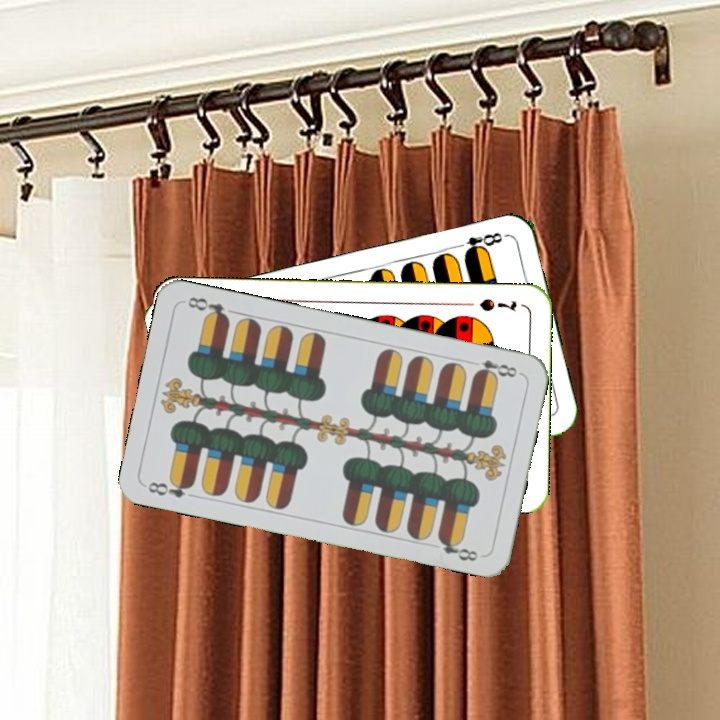E8: (451, 228, 509, 259), (143, 475, 197, 501), (471, 355, 523, 381)
S7: (476, 294, 520, 314)
